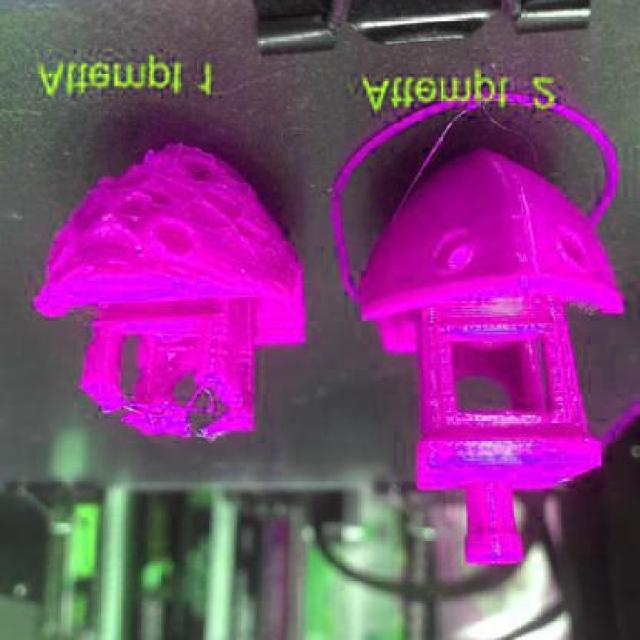Spaghetti: (126, 388, 217, 424)
